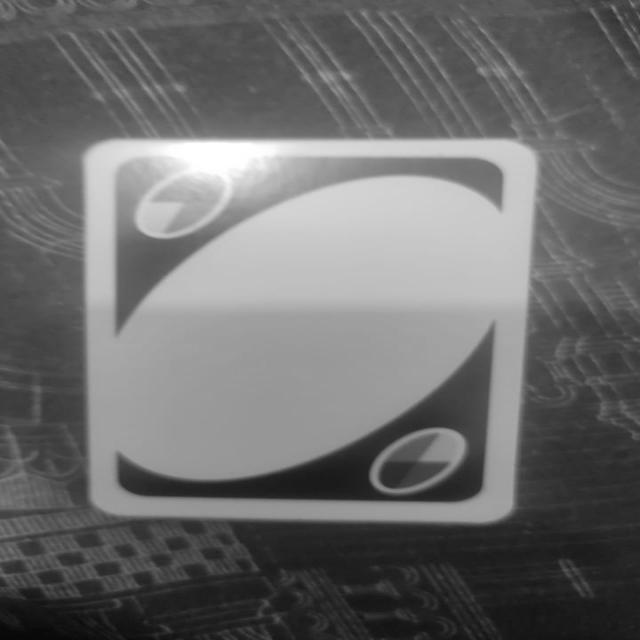wild_card: (81, 137, 538, 525)
